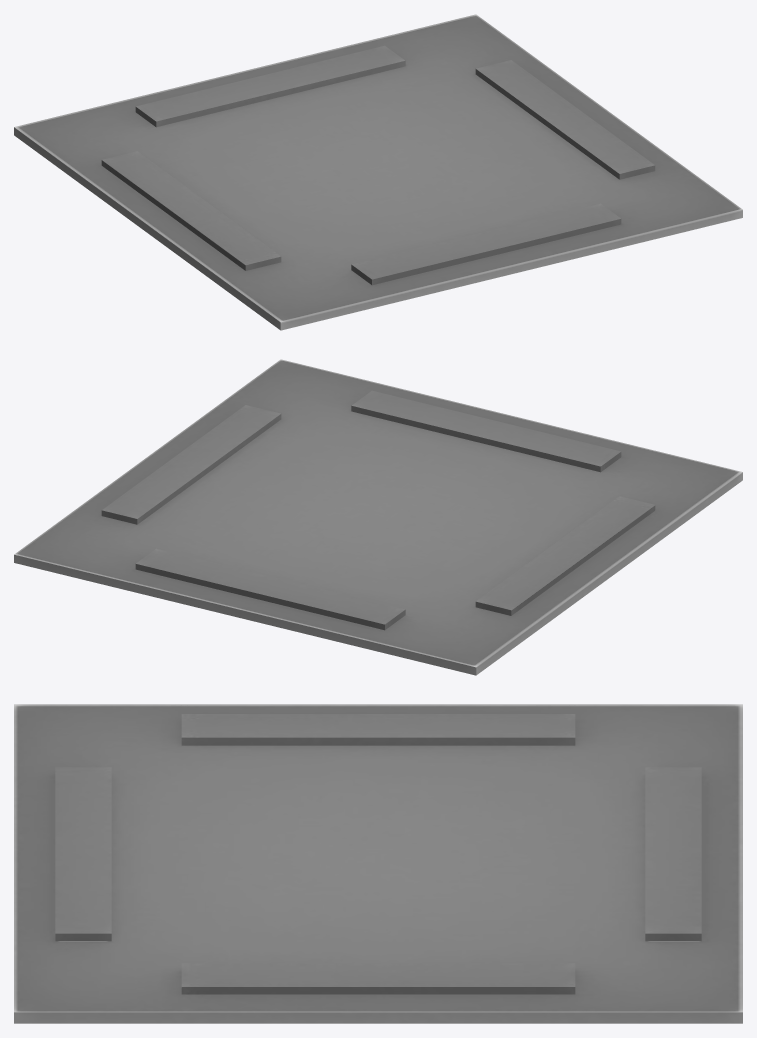
The model's file is jch.gltf.
The picture shows the model from 3 angles, top to bottom: view 1: azimuth 30°, elevation 25°; view 2: azimuth 150°, elevation 25°; view 3: azimuth 270°, elevation 25°; orthographic projection. The views are drawn at different scales.
Parts seen in each view (by area): view 1: 01; view 2: 01; view 3: 01.
Part boxes in pixels (left/top/right/bottom): 01: left=14, top=14, right=742, bottom=330; 01: left=14, top=359, right=742, bottom=675; 01: left=14, top=704, right=742, bottom=1023.
Bounding box in the file's own units: 0.95 × 0.0628 × 0.95.
Materials: 1 (1 with a texture image).
